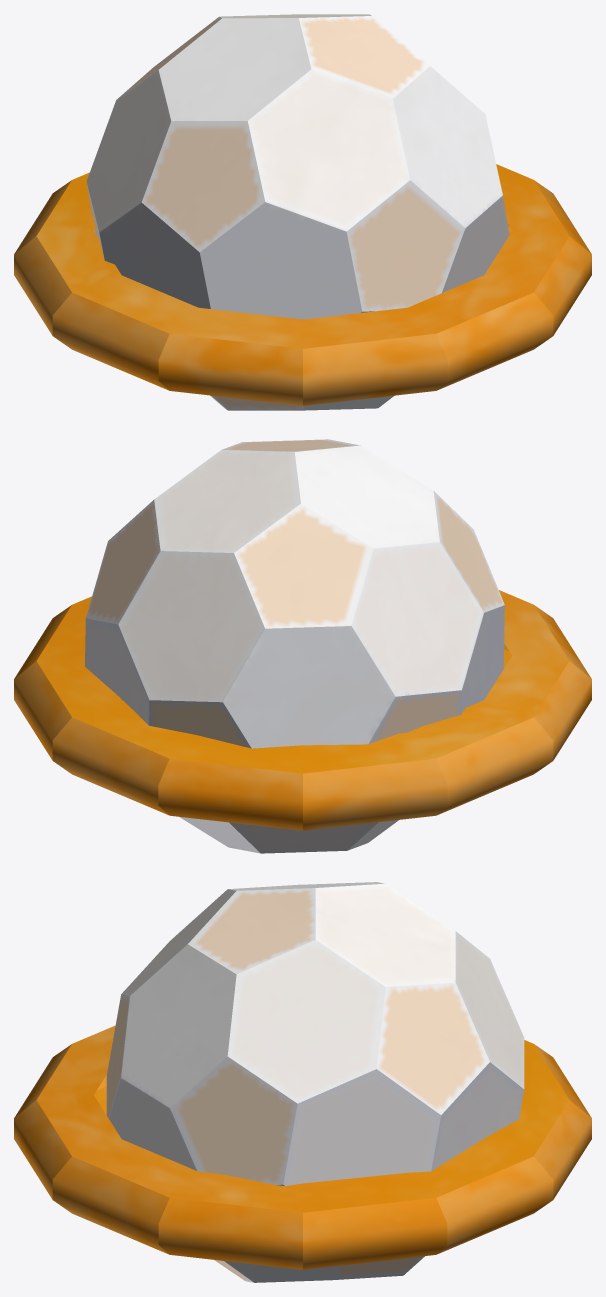
File: Hull_05.fbx
3 renders of one model, top to bottom at view 1: azimuth 30°, elevation 25°; view 2: azimuth 150°, elevation 25°; view 3: azimuth 270°, elevation 25°, orthographic.
Parts seen in each view (by area): view 1: Hull_05; view 2: Hull_05; view 3: Hull_05.
Boxes of the visible parts, left/top/right/bottom form: Hull_05: left=14, top=14, right=591, bottom=410; Hull_05: left=14, top=439, right=591, bottom=853; Hull_05: left=14, top=882, right=591, bottom=1282.
Bounding box in the file's own units: 20.14 × 14.95 × 20.14.
